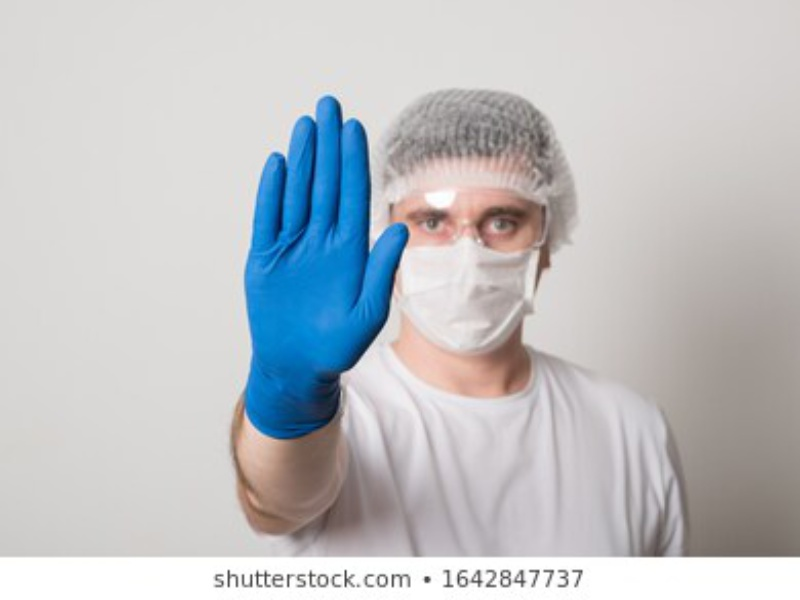ManaoArotava: (363, 91, 577, 393)
